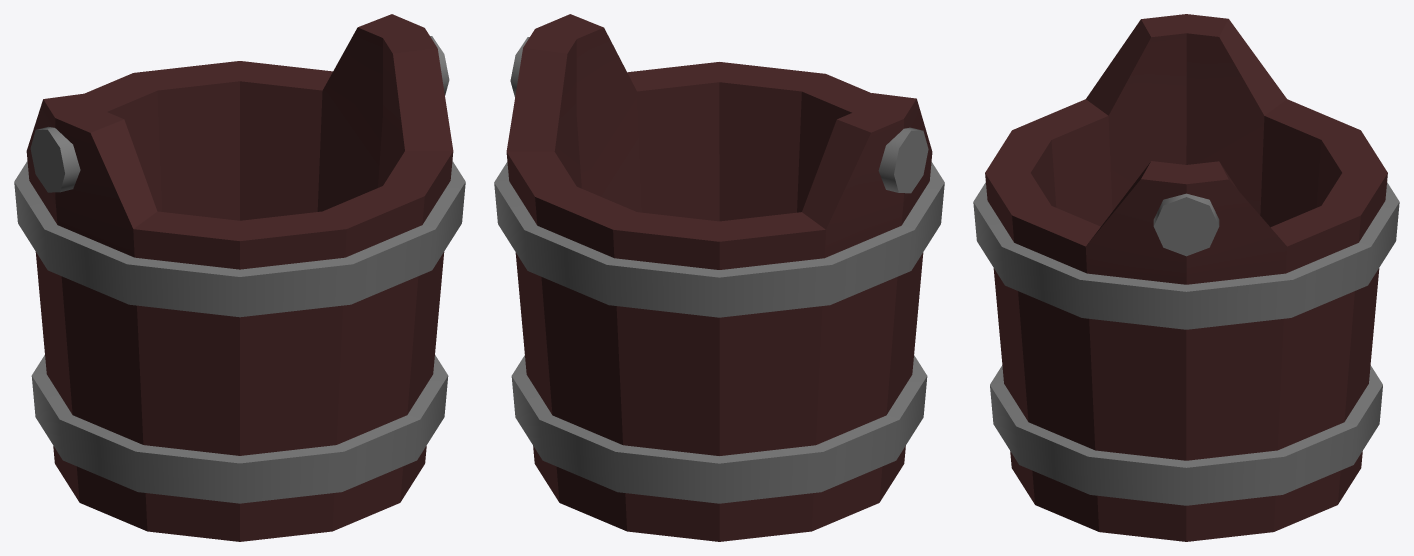
Rendered from Rubbish1.fbx.
3 renders of one model, left to right at view 1: azimuth 30°, elevation 25°; view 2: azimuth 150°, elevation 25°; view 3: azimuth 270°, elevation 25°, orthographic. The views are drawn at different scales.
Visible parts, largest first — view 1: Bucket; view 2: Bucket; view 3: Bucket.
Boxes of the visible parts, x1,y1,x2,y2 form: Bucket: (14,14,465,541); Bucket: (494,14,944,541); Bucket: (973,14,1399,541).
Bounding box in the file's own units: 79.15 × 75.58 × 79.15.
